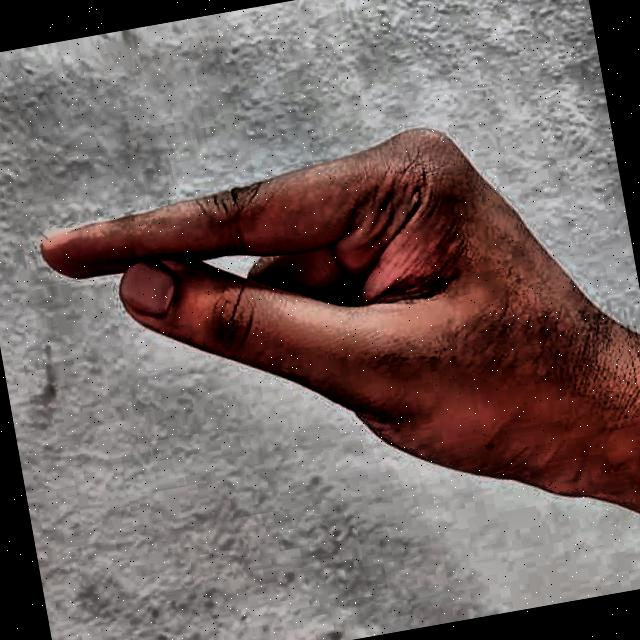Tha: (7, 63, 640, 627)
